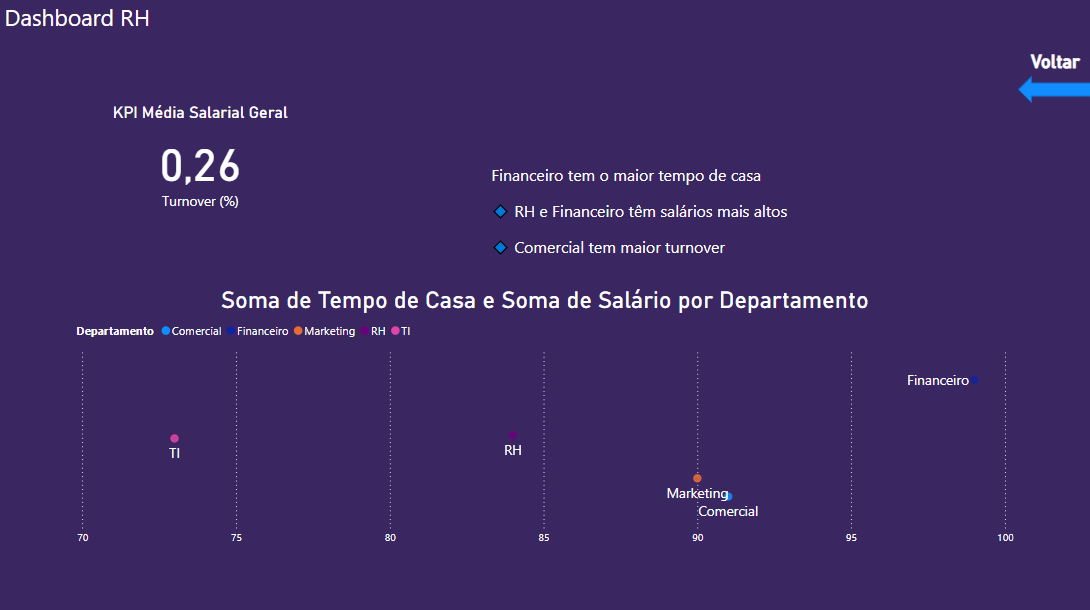

Layout of this report page (visuals, bound fields, positions):
{"tool":"powerbi","page":{"name":"Pagina 3","canvas":[1280,720],"ordinal":2},"visuals":[{"type":"shape","title":"Voltar","box":[1192.9,62.9,87.1,61.4],"z":4000},{"type":"textbox","box":[0,0,647.1,51.4],"z":6000},{"type":"card","title":"KPI Média Salarial Geral","fields":{"Values":["Medidas.Turnover (%)"]},"box":[91.5,124.7,286.6,131.7],"z":6001},{"type":"scatterChart","fields":{"X":["Sum(Dados RH.Tempo de Casa)"],"Y":["Sum(Dados RH.Salário)"],"Series":["Dados RH.Departamento"]},"box":[84.3,338.6,1108.6,312.9],"z":6002},{"type":"textbox","box":[571.1,191,680.7,140.8],"z":6003}]}

Visuals, with their boxes in screenshot pixels (x1, y1, x2, y2), scaled from the page's 1280x720 canvas onto the 1090x610 screenshot:
"Voltar" shape: bbox=[1016, 53, 1089, 105]
textbox: bbox=[0, 0, 551, 44]
"KPI Média Salarial Geral" card: bbox=[78, 106, 322, 217]
scatterChart - Sum(Dados RH.Tempo de Casa) x Sum(Dados RH.Salário): bbox=[72, 287, 1016, 552]
textbox: bbox=[486, 162, 1066, 281]
